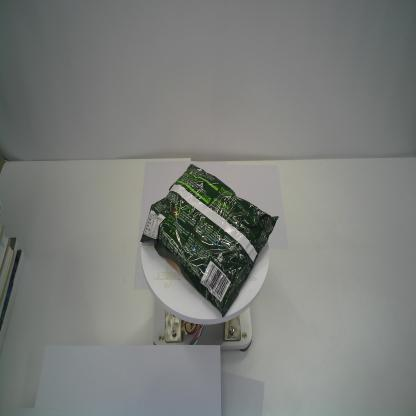Instant Noodles: (139, 161, 280, 319)
